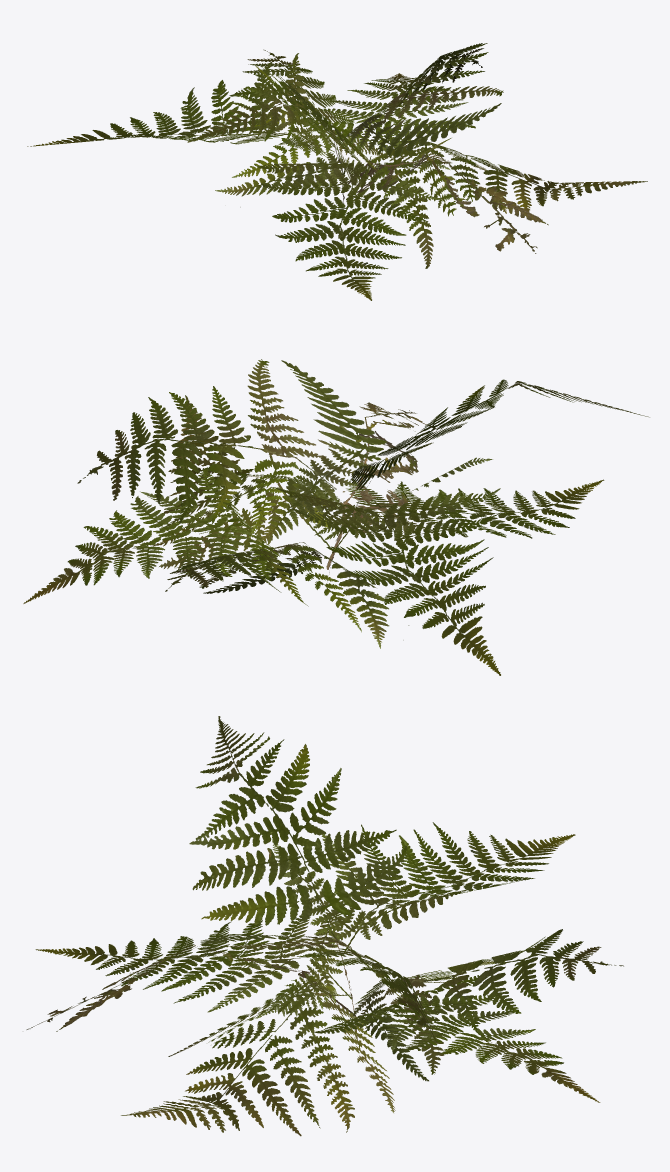
Rendered from Plant_A.FBX.
The picture shows the model from 3 angles, top to bottom: view 1: azimuth 30°, elevation 25°; view 2: azimuth 150°, elevation 25°; view 3: azimuth 270°, elevation 25°; orthographic projection. The views are drawn at different scales.
Visible parts, largest first — view 1: Geometry_Plant_A_02_LOD00; view 2: Geometry_Plant_A_02_LOD00; view 3: Geometry_Plant_A_02_LOD00.
Boxes of the visible parts, x1=… form: Geometry_Plant_A_02_LOD00: x1=27, y1=43, x2=647, y2=300; Geometry_Plant_A_02_LOD00: x1=23, y1=359, x2=649, y2=675; Geometry_Plant_A_02_LOD00: x1=26, y1=716, x2=623, y2=1136.
Size of what is drawn, in the model's own units: 122 by 53.79 by 119.
